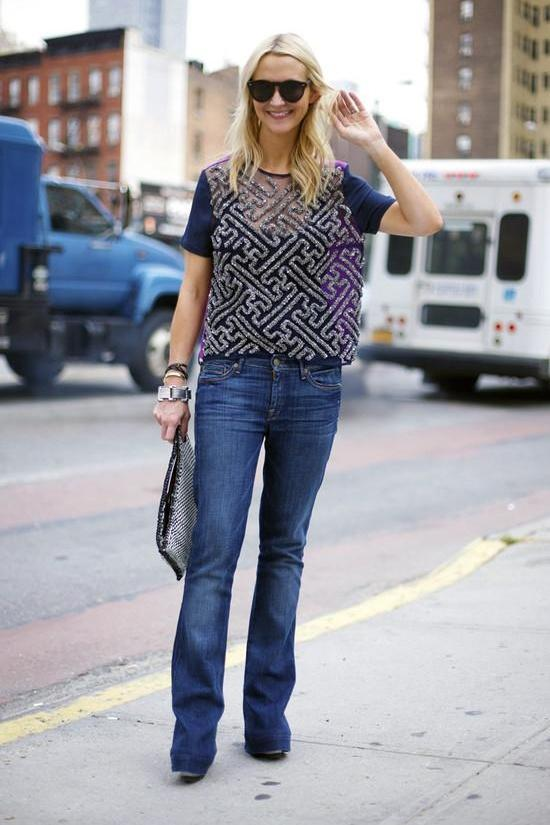Tshirt: (184, 143, 396, 367)
pants: (170, 357, 344, 776)
